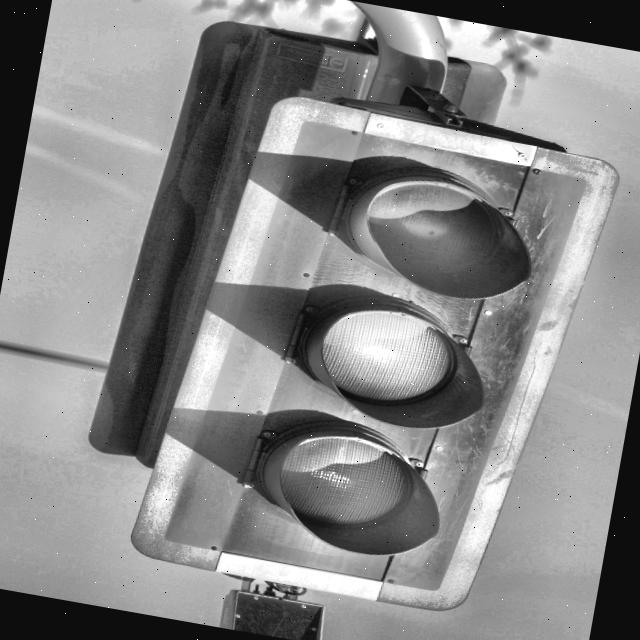traffic light: (68, 13, 640, 640)
